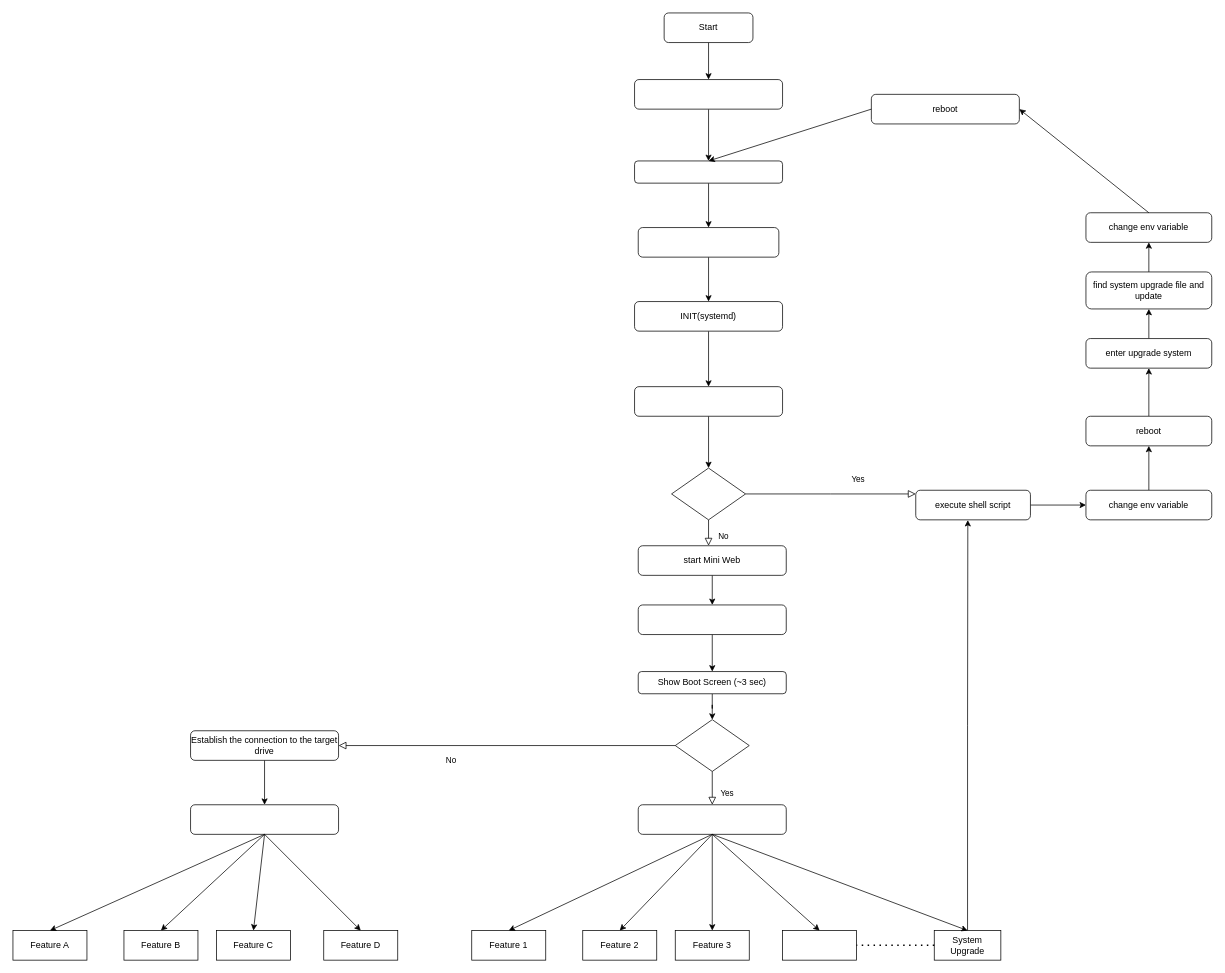
This 1225x973 diagram has some shape labels left out. The shapes that lost their labels are listed below. From the top down, each one's box as (x1, y1, x2, y2) in pixels, then its label:
(634, 79, 783, 109): Power on
(634, 160, 783, 183): UBoot
(638, 227, 779, 257): Kernel boot
(634, 386, 783, 416): enter user system
(671, 467, 746, 520): System need upgrade?
(638, 604, 786, 635): start chrome browser
(675, 719, 749, 771): Button for settings screen pressed?
(190, 804, 339, 834): start target drive web application
(638, 804, 786, 834): start SOP web application
(782, 930, 857, 960): Feature 4
